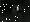person: (19, 5, 25, 14)
